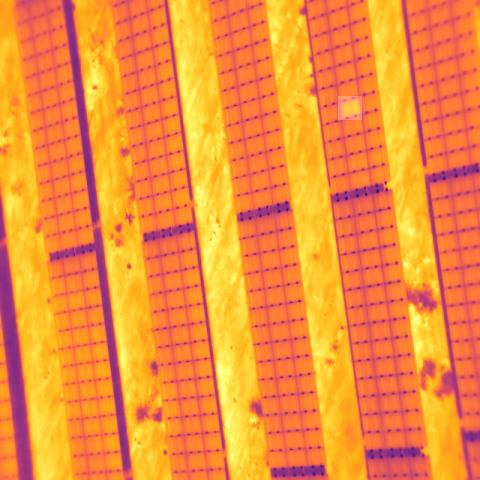fault: (338, 96, 362, 120)
